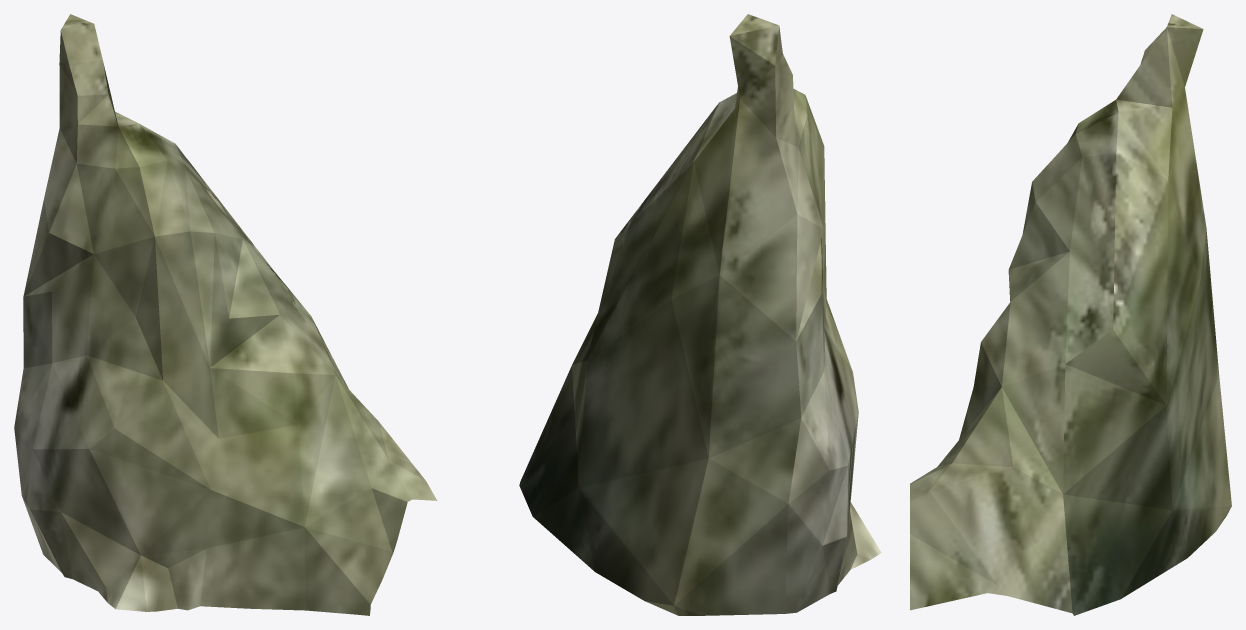
3 views of the same model, side by side, from view 1: azimuth 30°, elevation 25°; view 2: azimuth 150°, elevation 25°; view 3: azimuth 270°, elevation 25° (orthographic). The views are drawn at different scales.
Bounding box in the file's own units: 0.981 × 1.47 × 0.9038.
Materials: 1 (1 with a texture image).
